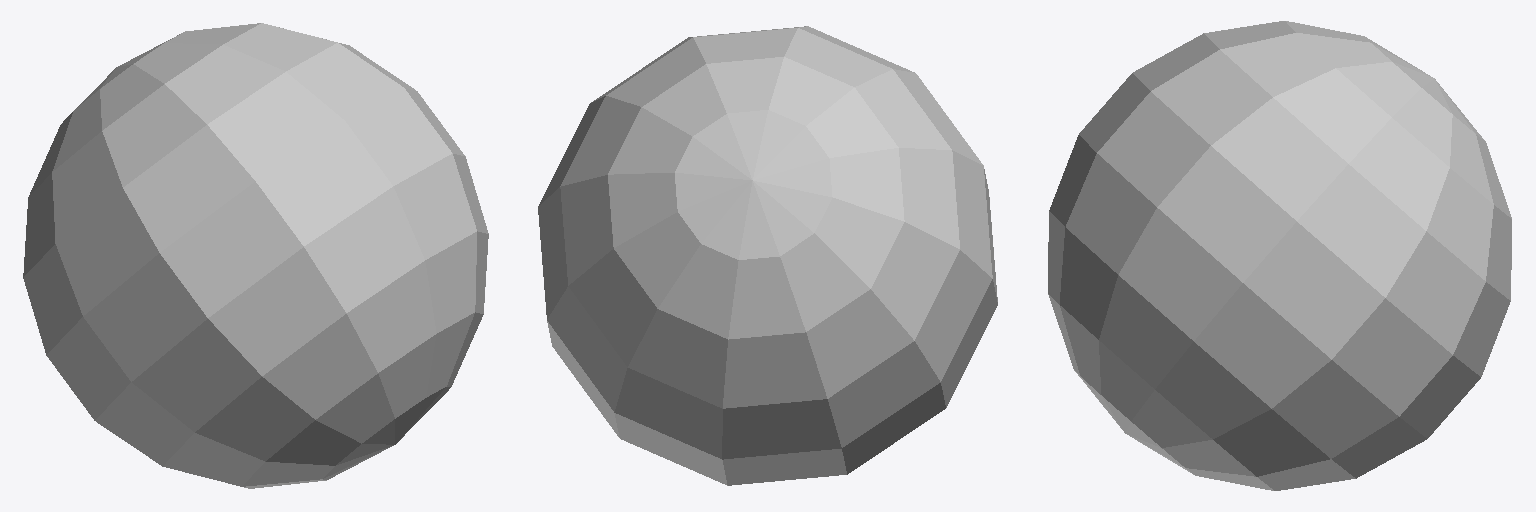
File: ball_model.obj
3 renders of one model, left to right at view 1: azimuth 30°, elevation 25°; view 2: azimuth 150°, elevation 25°; view 3: azimuth 270°, elevation 25°, orthographic.
Visible parts, largest first — view 1: group[number redacted]; view 2: group[number redacted]; view 3: group[number redacted].
Part boxes in pixels (x1,y1,x2,y2): group[number redacted]: (23,23,488,488); group[number redacted]: (538,26,997,485); group[number redacted]: (1048,21,1511,490).
Bounding box in the file's own units: 0.2828 × 0.2872 × 0.2863.